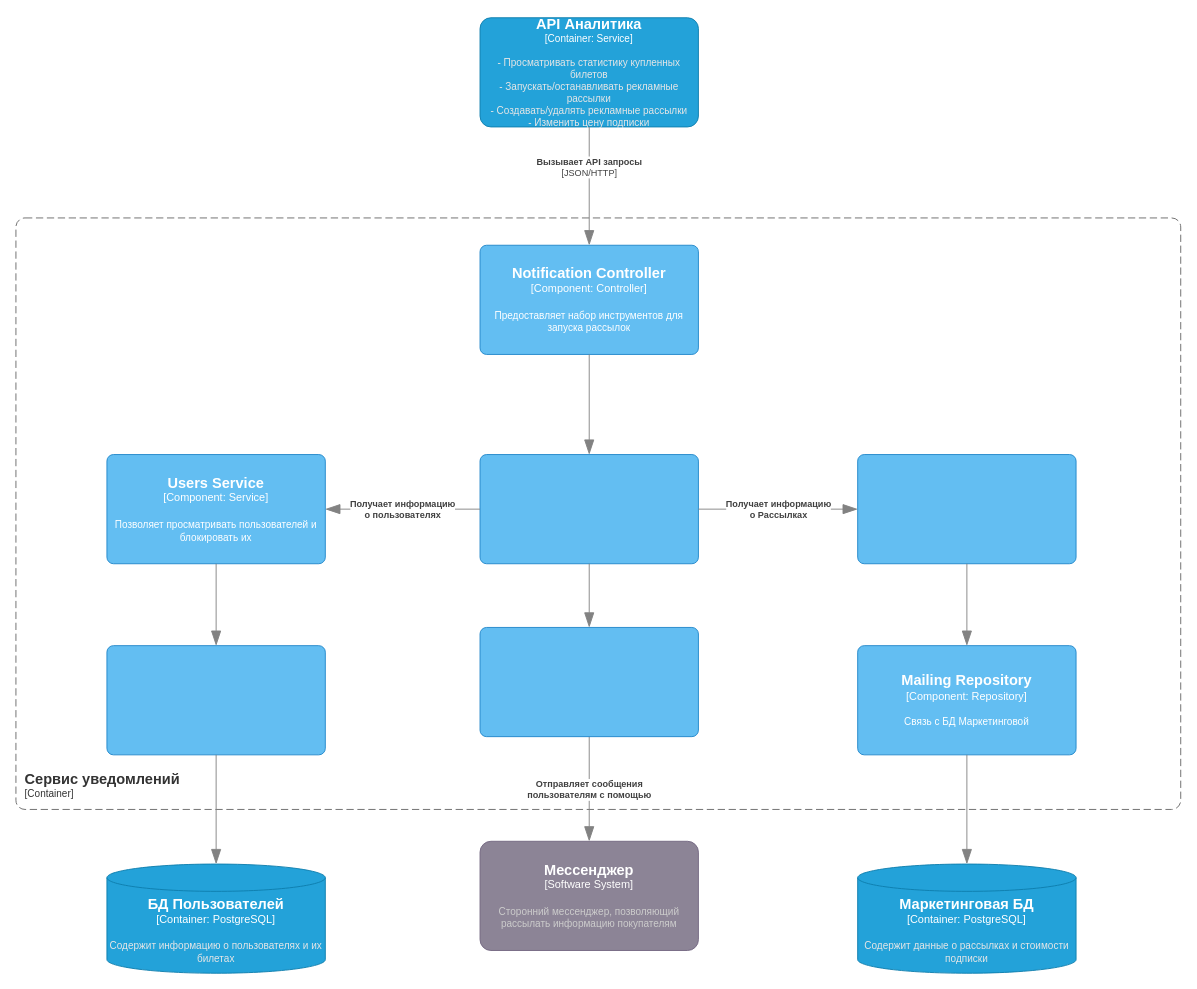
This 1197x989 diagram has some shape labels left out. Here are the shapes that lost their labels. From the top down, the centre of each, then its label:
At (x=588, y=509): "Notification Service [Component: Service] Запускает рассылки пользователям".
At (x=966, y=509): "Mailing Service [Component: Service] Позволяет создавать и удалять рассылки".
At (x=215, y=700): "Users Repository [Component: Repository] Связь с БД Пользователей".
At (x=588, y=682): "Messaging Service [Component: Service] Отправляет сообщения пользователям".
